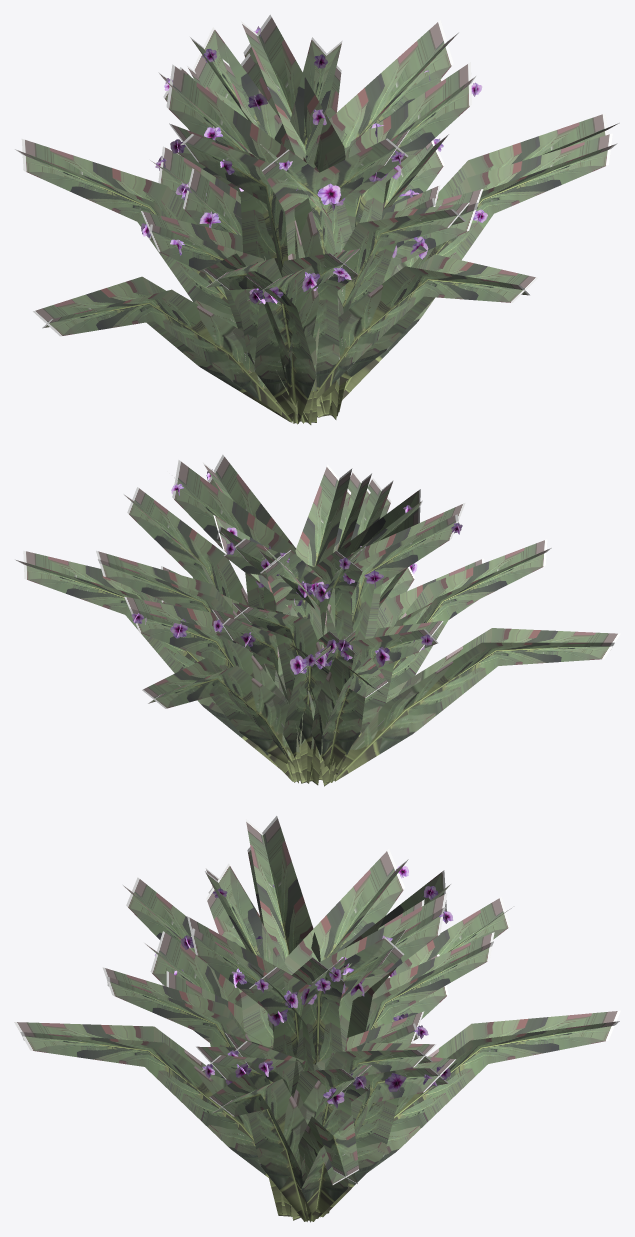
The model's file is flower_bush_tree_royalty_free (1).glb.
3 renders of one model, top to bottom at view 1: azimuth 30°, elevation 25°; view 2: azimuth 150°, elevation 25°; view 3: azimuth 270°, elevation 25°, orthographic. The views are drawn at different scales.
Visible parts, largest first — view 1: Flower_Bush_1; view 2: Flower_Bush_1; view 3: Flower_Bush_1.
Part boxes in pixels (x1,y1,x2,y2): Flower_Bush_1: (15, 14, 619, 424); Flower_Bush_1: (15, 454, 620, 786); Flower_Bush_1: (14, 816, 620, 1222).
Bounding box in the file's own units: 12.96 × 6.59 × 11.14.
Materials: 2 (2 with a texture image).
